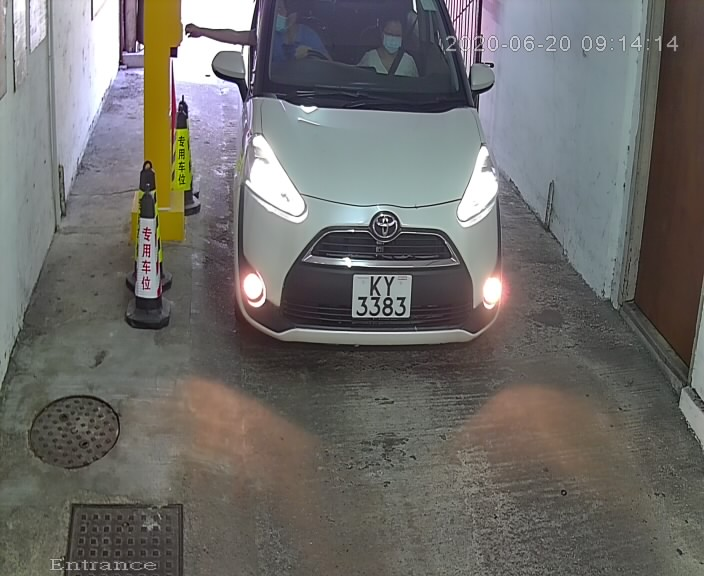privatecar: (228, 3, 524, 344)
